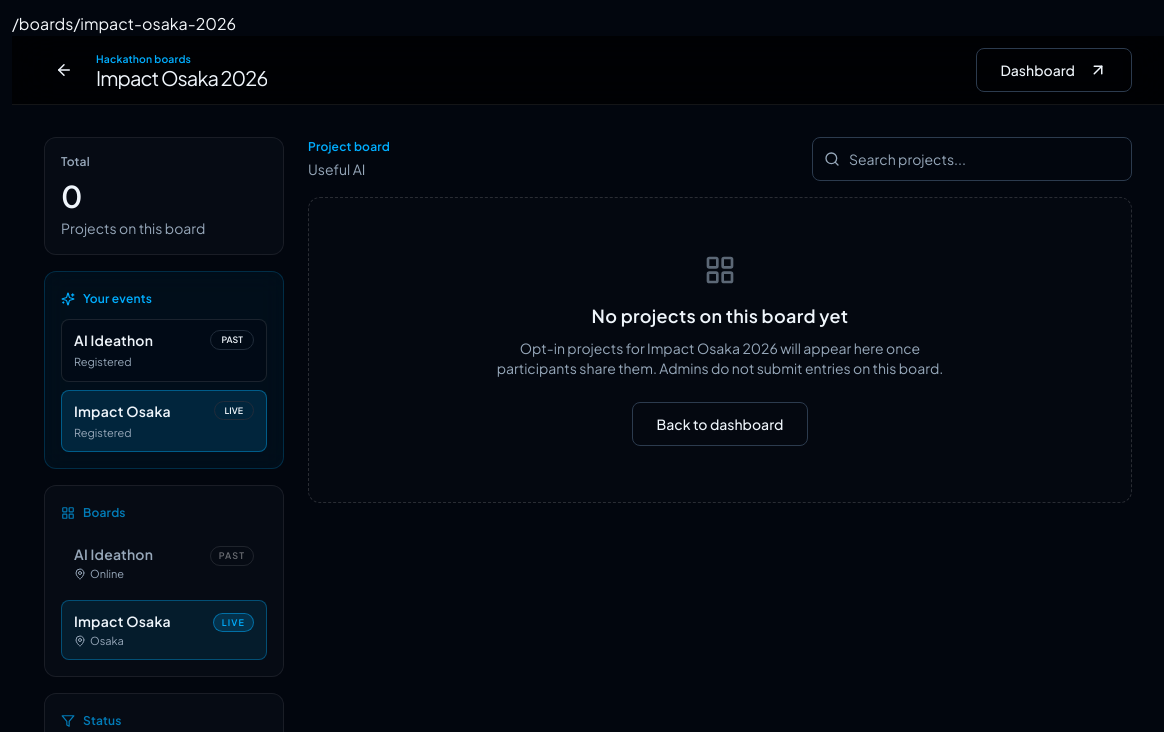
Test: judge and mentor board navigation › keeps assigned past and current boards reachable for a judge without exposing unassigned events
This screenshot has width=1164, height=732.
Expected: the heading "Impact Osaka 2026" is shown, x1=96 y1=67 x2=268 y2=89
Expected: the link "Impact Osaka Osaka Live" is shown, x1=61 y1=600 x2=267 y2=660
Click the link "AI Ideathon Online Past" at (114,554), box x1=74 y1=545 x2=254 y2=580
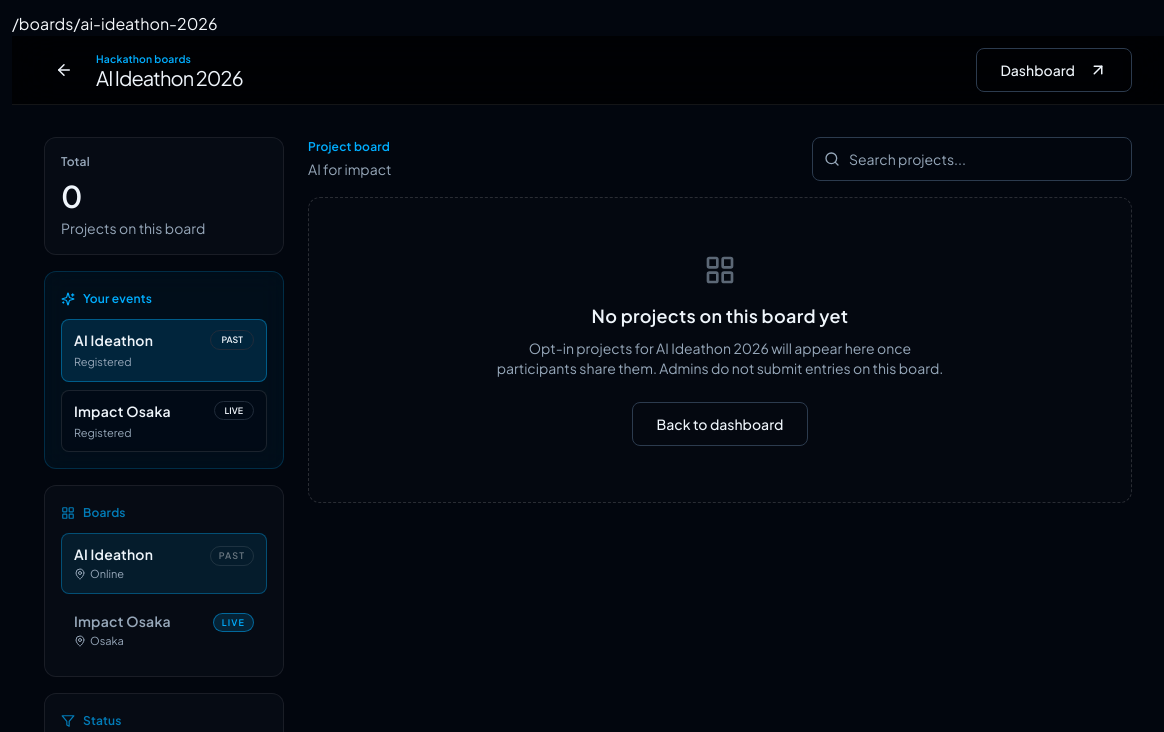
Result: the heading "AI Ideathon 2026" is shown at x1=96 y1=67 x2=243 y2=89
